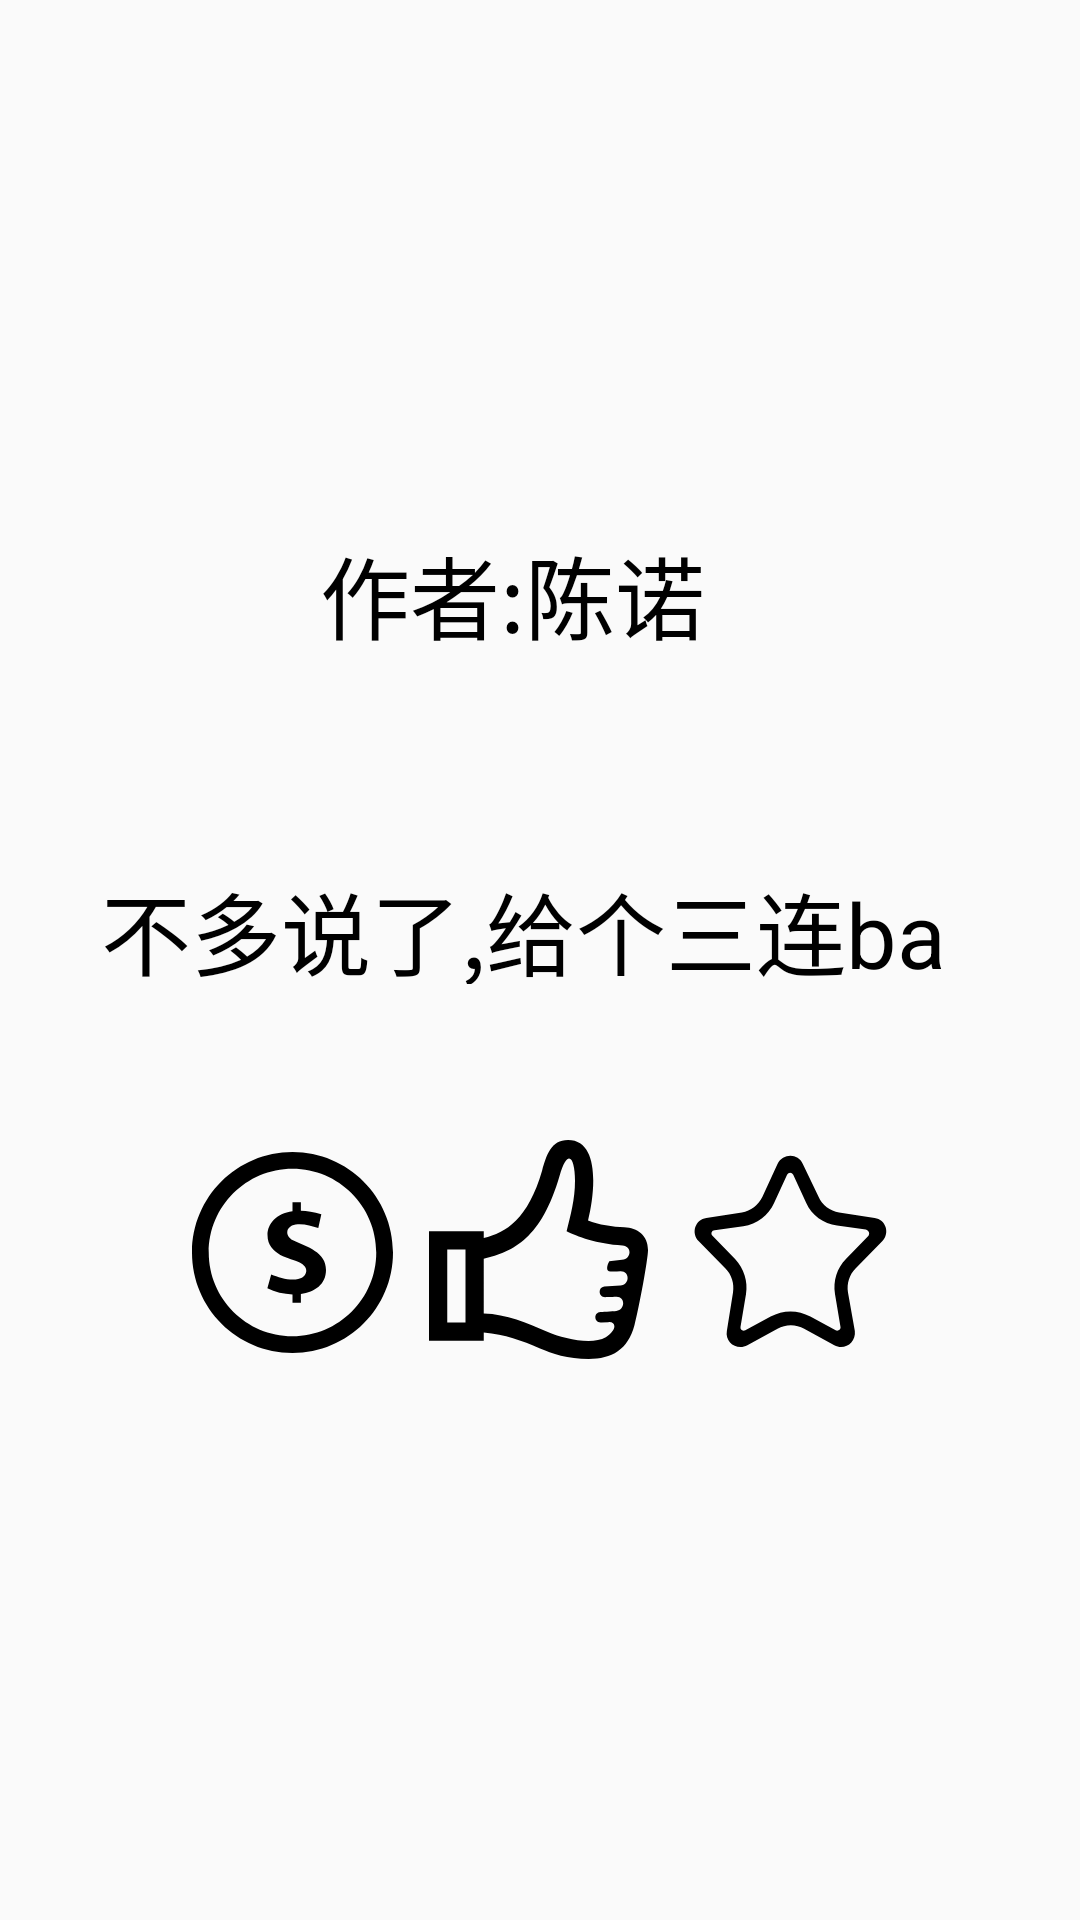

Icons on this 1080px×1920px Android screen, each with its box as (x1, y1, x2, y2):
coin deactivate: (192, 1152, 393, 1353)
thumb deactivate: (429, 1140, 648, 1359)
